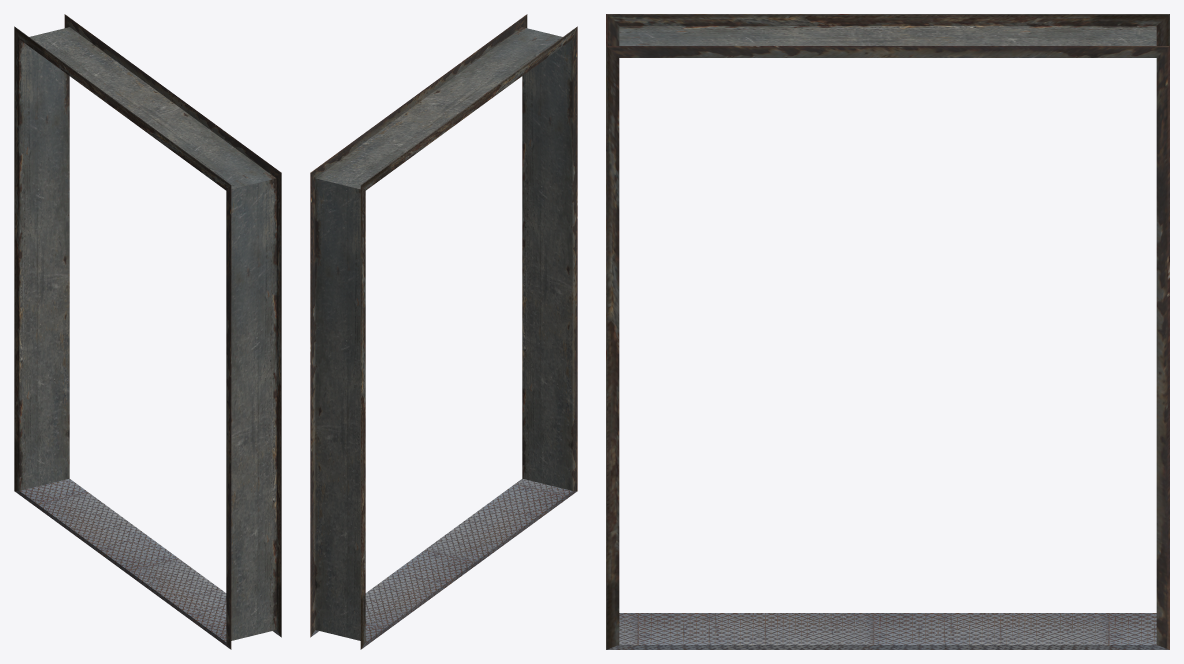
Rendered from DoorFrameOpenA.FBX.
The picture shows the model from 3 angles, left to right: view 1: azimuth 30°, elevation 25°; view 2: azimuth 150°, elevation 25°; view 3: azimuth 270°, elevation 25°; orthographic projection. The views are drawn at different scales.
Parts seen in each view (by area): view 1: DoorFrameOpenA; view 2: DoorFrameOpenA; view 3: DoorFrameOpenA.
Part boxes in pixels (x1,y1,x2,y2): DoorFrameOpenA: (14, 14, 281, 649); DoorFrameOpenA: (310, 14, 577, 649); DoorFrameOpenA: (606, 14, 1169, 649).
Bounding box in the file's own units: 36.83 × 325 × 275.
